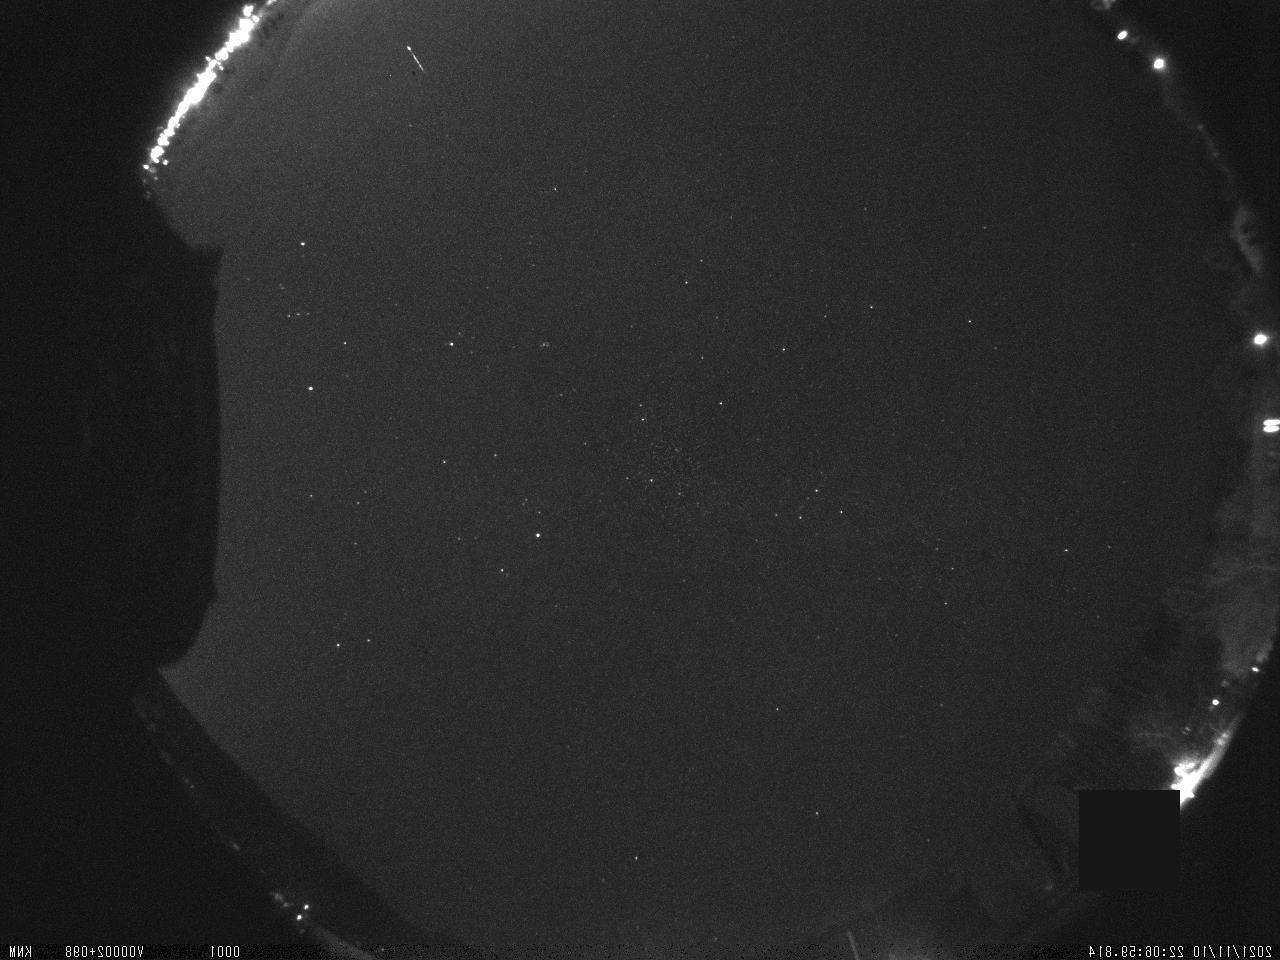meteor: (402, 37, 429, 76)
